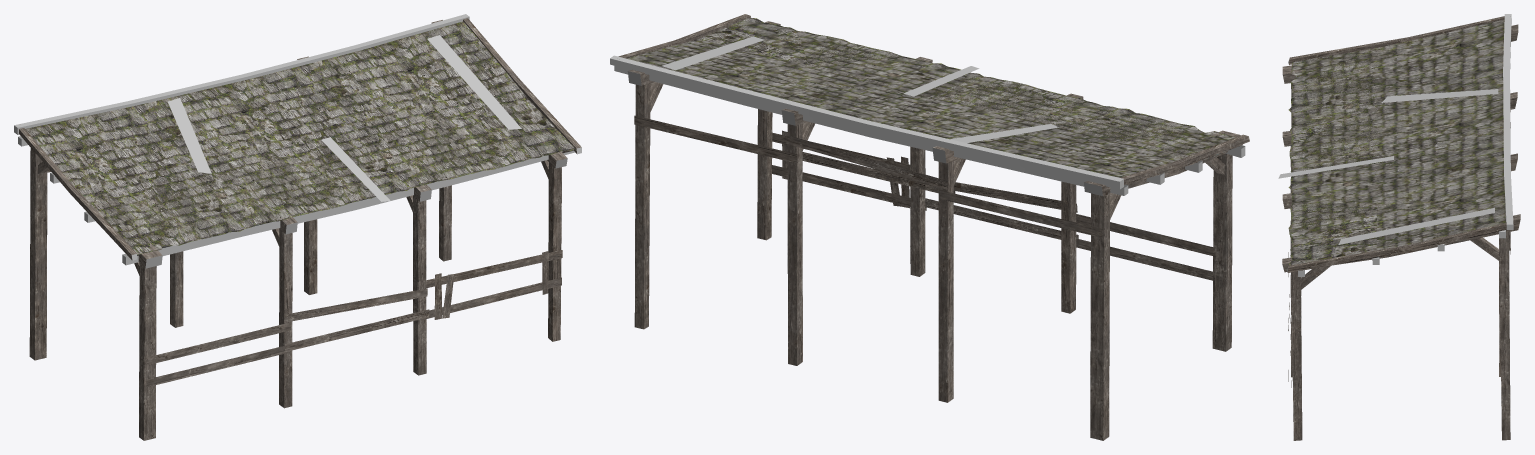
The model's file is Shed8_LOD1.fbx.
3 renders of one model, left to right at view 1: azimuth 30°, elevation 25°; view 2: azimuth 150°, elevation 25°; view 3: azimuth 270°, elevation 25°, orthographic. The views are drawn at different scales.
Parts seen in each view (by area): view 1: polySurface1160; view 2: polySurface1160; view 3: polySurface1160.
Part boxes in pixels (box(x1,y1,x2,y2)): polySurface1160: box(14, 14, 581, 440); polySurface1160: box(610, 14, 1249, 440); polySurface1160: box(1278, 14, 1520, 440).
Size of the model in its own units: 11.77 by 5.88 by 5.72.
